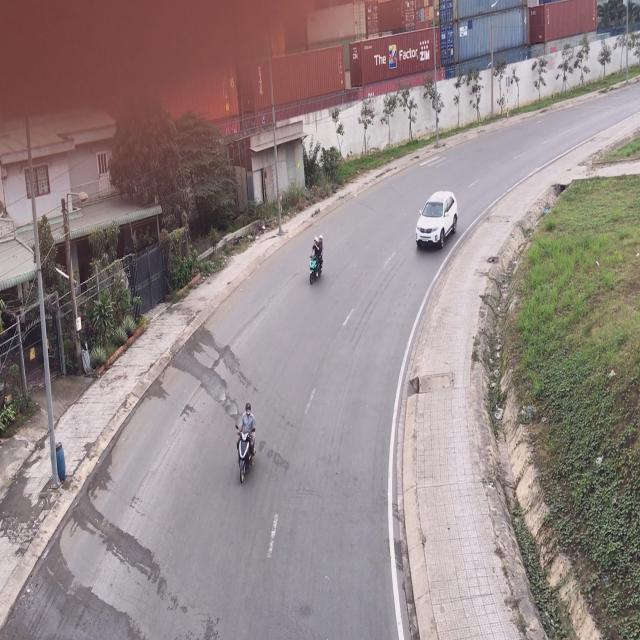car: (413, 190, 458, 252)
motorbike: (234, 401, 256, 482), (306, 236, 326, 290)
